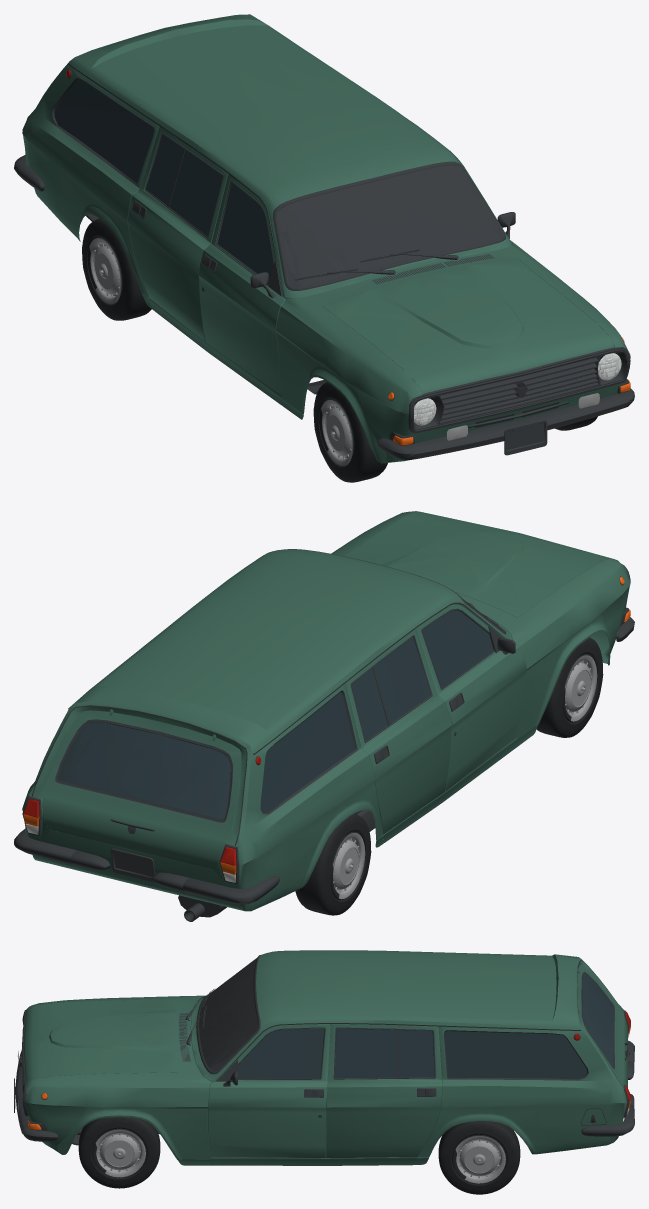
File: gaz2412.glb
3 views of the same model, one above another, from view 1: azimuth 30°, elevation 25°; view 2: azimuth 150°, elevation 25°; view 3: azimuth 270°, elevation 25° (orthographic). The views are drawn at different scales.
Parts seen in each view (by area): view 1: chassisbody, chassis_trim, glass, wheel_rr, wheel_fr, headlights; view 2: chassisbody, glass, chassis_trim, wheel_rr, wheel_fr; view 3: chassisbody, glass, chassis_trim, wheel_rl, wheel_fl.
Part boxes in pixels (box(x1,y1,x2,y2)): chassisbody: box(22, 14, 630, 463); chassis_trim: box(14, 63, 634, 460); glass: box(54, 78, 273, 281); wheel_rr: box(82, 218, 151, 320); wheel_fr: box(313, 382, 387, 482); headlights: box(414, 353, 621, 425); chassisbody: box(22, 511, 630, 911); glass: box(58, 610, 493, 819); chassis_trim: box(14, 549, 634, 921); wheel_rr: box(295, 813, 371, 915); wheel_fr: box(536, 637, 603, 737); chassisbody: box(23, 950, 627, 1165); glass: box(238, 974, 612, 1079); chassis_trim: box(14, 955, 634, 1141); wheel_rl: box(438, 1121, 520, 1194); wheel_fl: box(78, 1117, 160, 1188).
Bounding box in the file's own units: 1.97 × 1.59 × 5.15.
